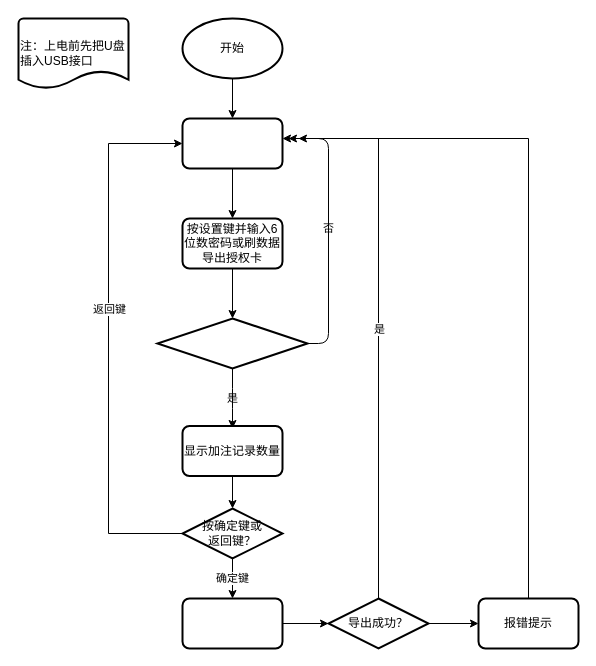
Some shapes in this 596 by 666 pixel diagram are drawn without their labels. The shapes that lost their labels are listed below. From the top down, each one's box as (x1, y1, x2, y2) in pixels, then its label:
(181, 117, 283, 169): 待机
(156, 317, 308, 369): 密码正确 或卡认证成功？
(181, 597, 283, 649): 数据导出到U盘
